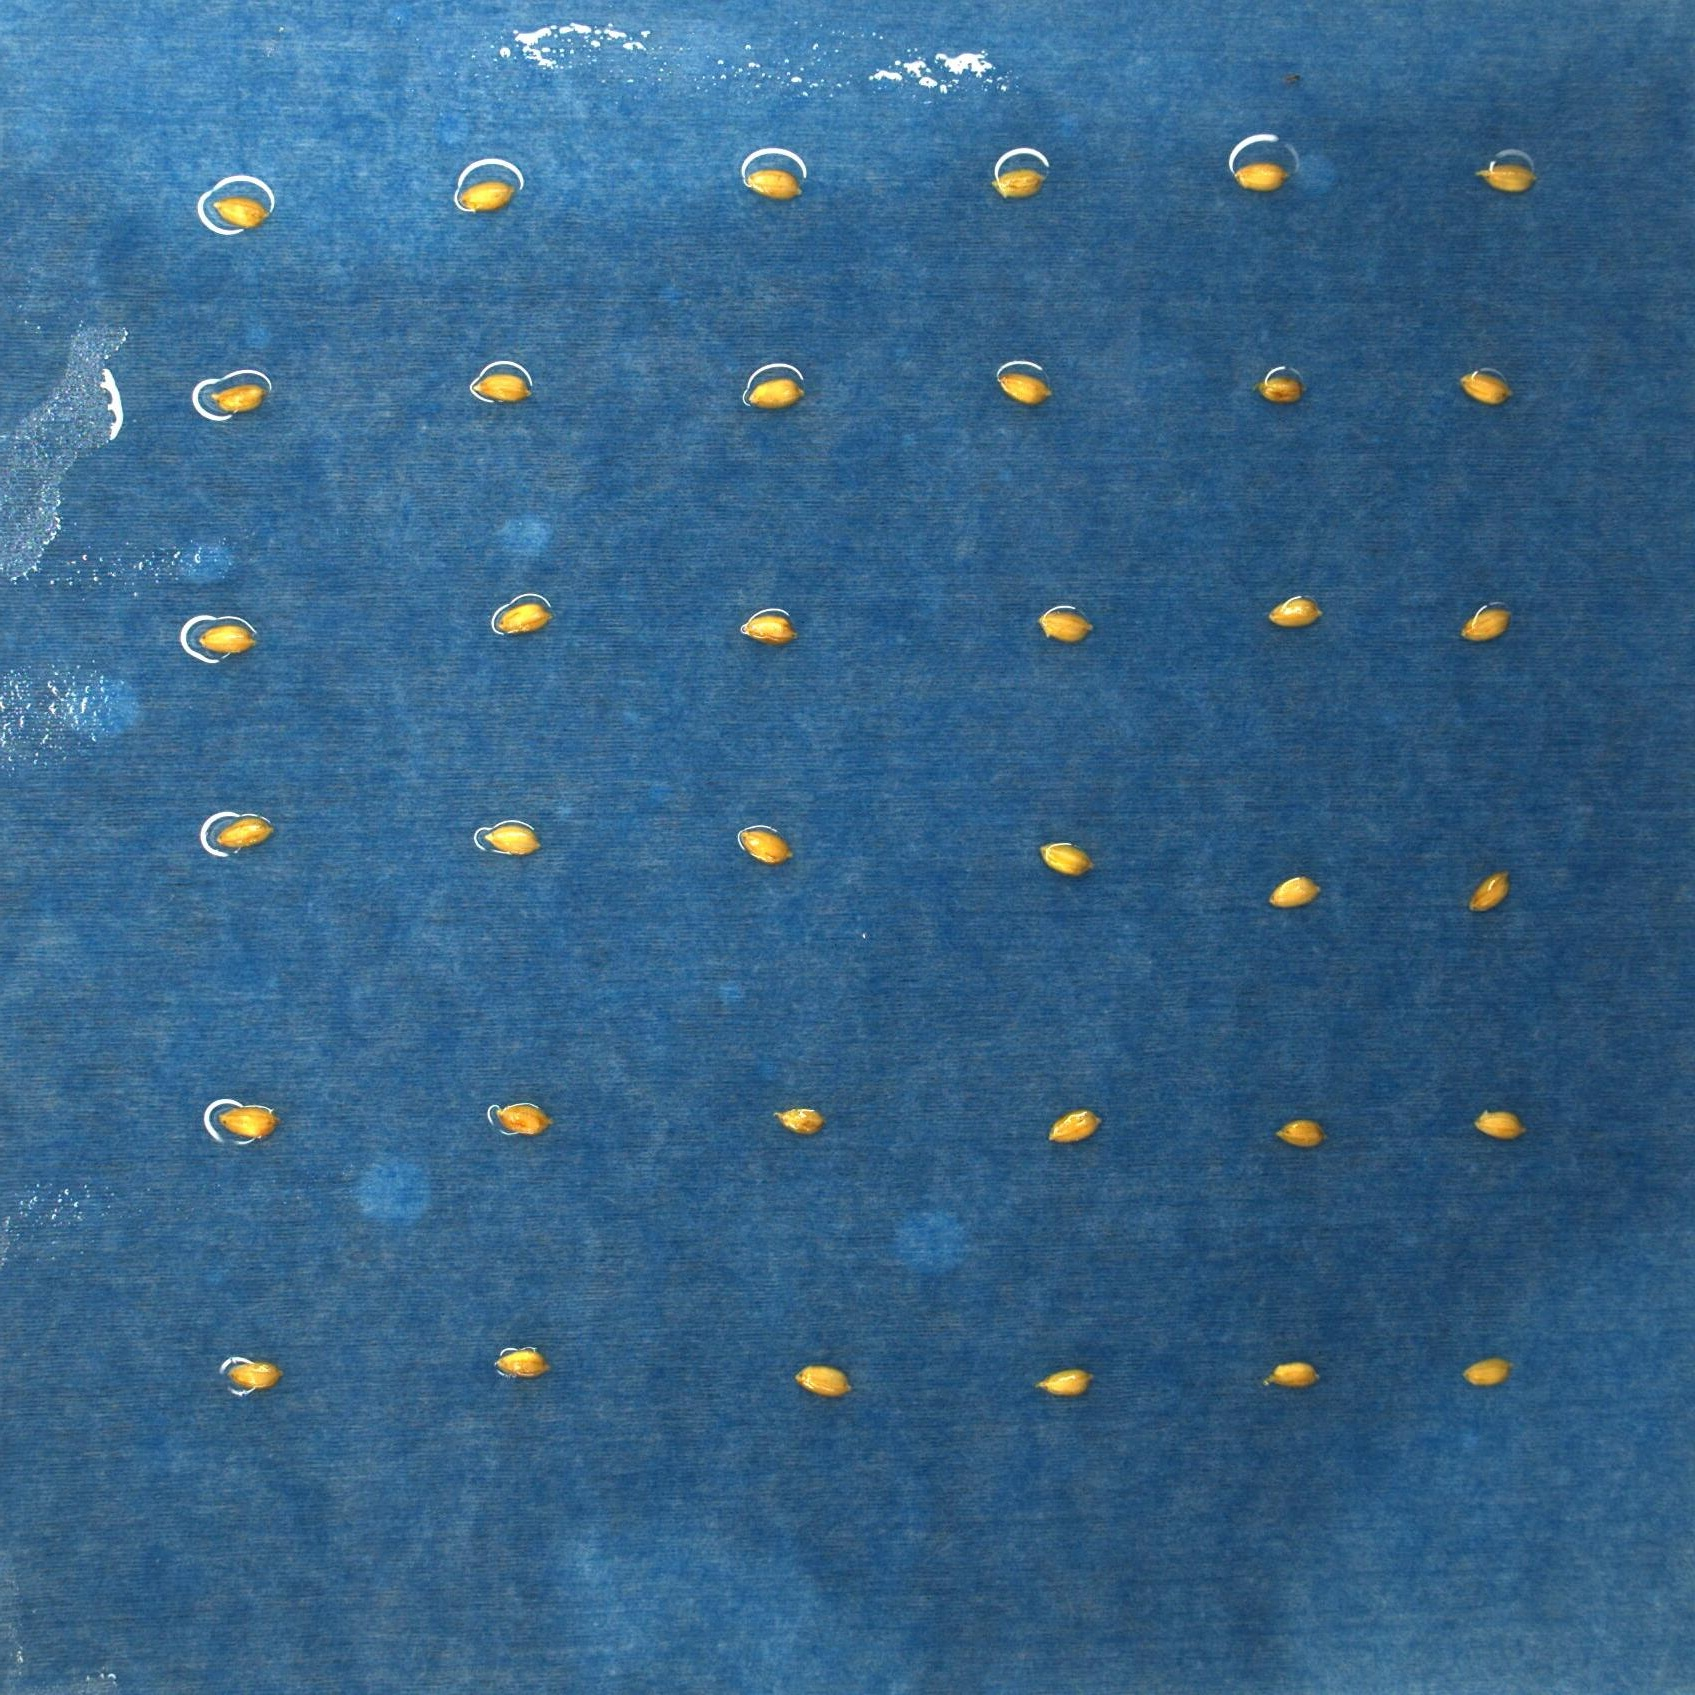not sprout: (214, 1097, 275, 1146), (1263, 590, 1324, 630), (188, 622, 262, 655), (477, 823, 540, 858), (1037, 843, 1101, 879), (490, 1097, 554, 1133), (734, 824, 795, 861), (217, 815, 275, 854), (224, 1357, 289, 1391), (1042, 1108, 1101, 1146), (1459, 366, 1515, 405), (1226, 163, 1291, 196), (990, 373, 1059, 404), (984, 166, 1048, 199), (206, 197, 272, 228), (1034, 612, 1097, 643), (455, 183, 515, 216), (748, 377, 806, 411), (1253, 1355, 1318, 1385), (1464, 602, 1510, 643), (799, 1361, 851, 1397), (470, 371, 536, 399), (487, 1350, 553, 1378), (206, 379, 267, 408), (1475, 161, 1538, 189), (773, 1101, 824, 1135), (1465, 1354, 1516, 1388), (1267, 877, 1322, 908), (1471, 866, 1509, 913), (1479, 1107, 1524, 1144), (490, 605, 553, 632), (745, 171, 806, 197), (1277, 1114, 1324, 1149), (1246, 377, 1301, 405), (734, 618, 798, 641), (1042, 1367, 1094, 1395)
